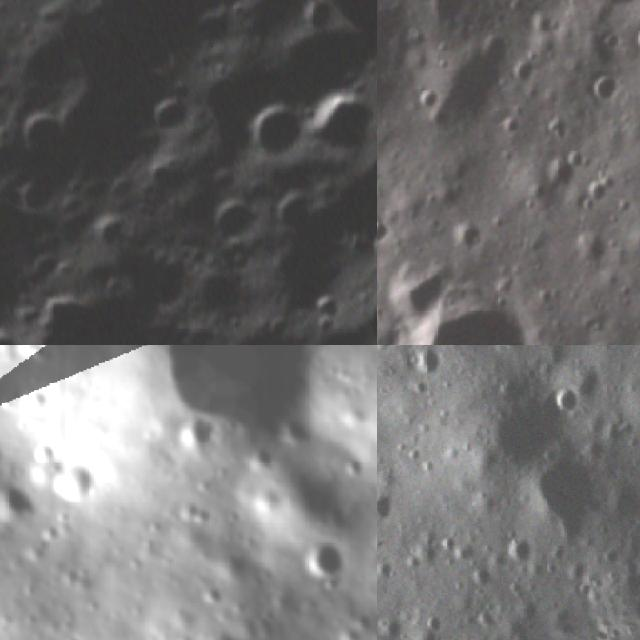crater: (162, 345, 322, 452), (452, 361, 582, 487), (523, 436, 626, 555), (378, 290, 540, 345), (231, 84, 322, 176), (296, 76, 377, 169), (4, 92, 86, 173), (193, 184, 271, 259), (137, 76, 210, 152), (266, 179, 330, 244), (377, 0, 415, 105), (295, 283, 355, 343), (54, 455, 104, 507), (494, 533, 546, 581), (298, 538, 343, 592), (542, 145, 584, 196), (172, 413, 216, 458), (377, 478, 409, 537), (462, 559, 504, 603), (551, 379, 593, 421), (404, 345, 447, 384), (586, 68, 622, 113), (0, 309, 42, 345), (416, 604, 451, 639), (359, 218, 377, 281), (377, 555, 400, 590), (377, 215, 392, 252), (583, 336, 622, 345)
